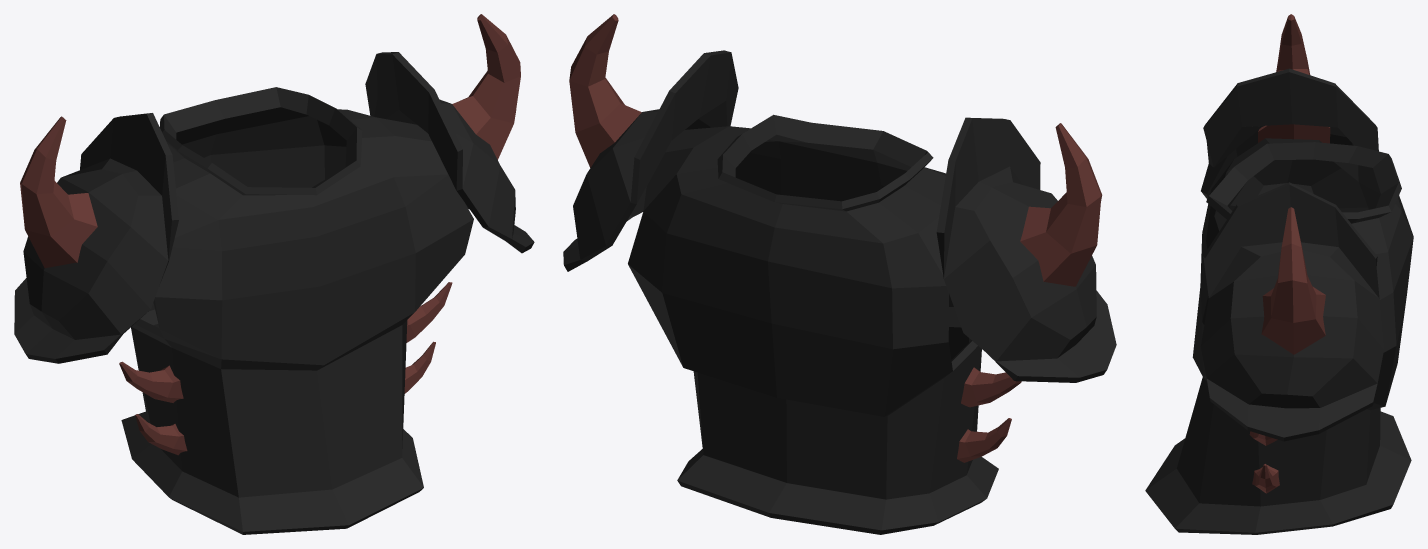
File: Armor_Black.glb
3 views of the same model, side by side, from view 1: azimuth 30°, elevation 25°; view 2: azimuth 150°, elevation 25°; view 3: azimuth 270°, elevation 25° (orthographic). The views are drawn at different scales.
Parts seen in each view (by area): view 1: Armor_Black; view 2: Armor_Black; view 3: Armor_Black.
Boxes of the visible parts, bbox=[...] form: Armor_Black: bbox=[14, 14, 534, 534]; Armor_Black: bbox=[563, 14, 1116, 534]; Armor_Black: bbox=[1145, 14, 1413, 534].
Bounding box in the file's own units: 1.54 × 1.2 × 0.7596.
